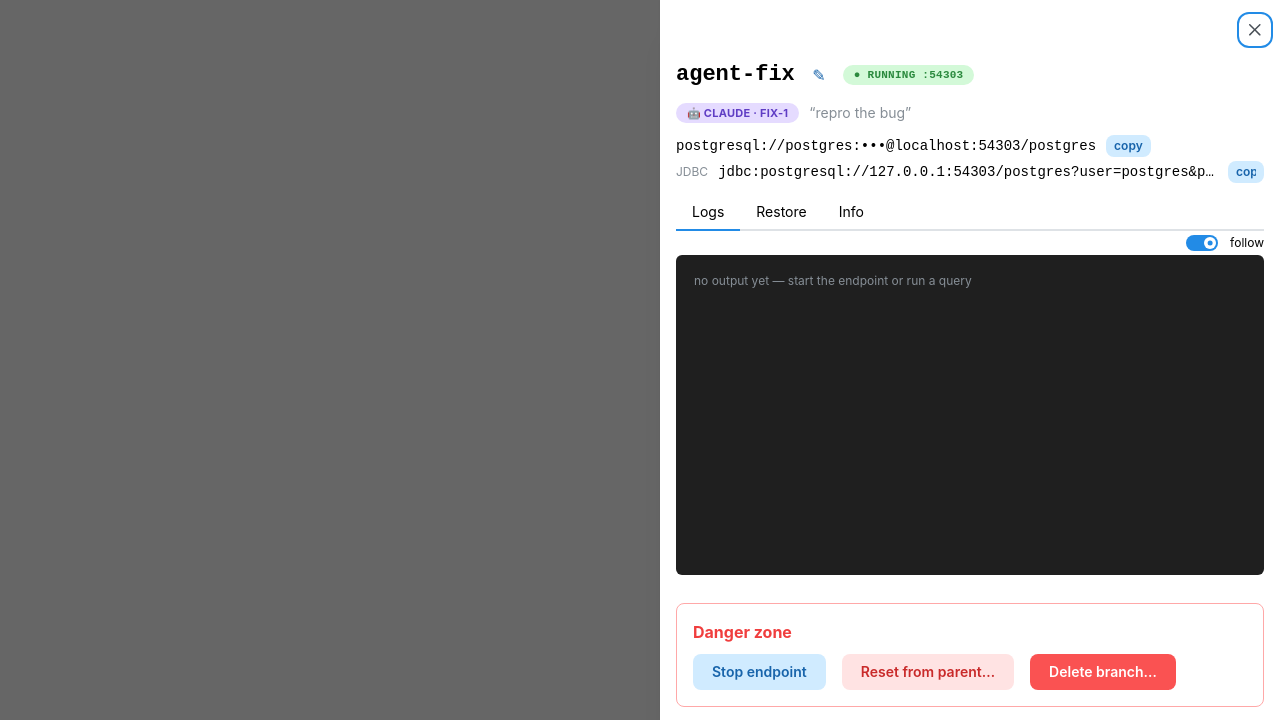
BranchDrawer › restart-to-adopt chip (Info tab) › shows the badge when the running compute's major has a newer active build
The image size is (1280, 720).
Click the tab "Info": point(851, 213) x1=823 y1=195 x2=880 y2=231
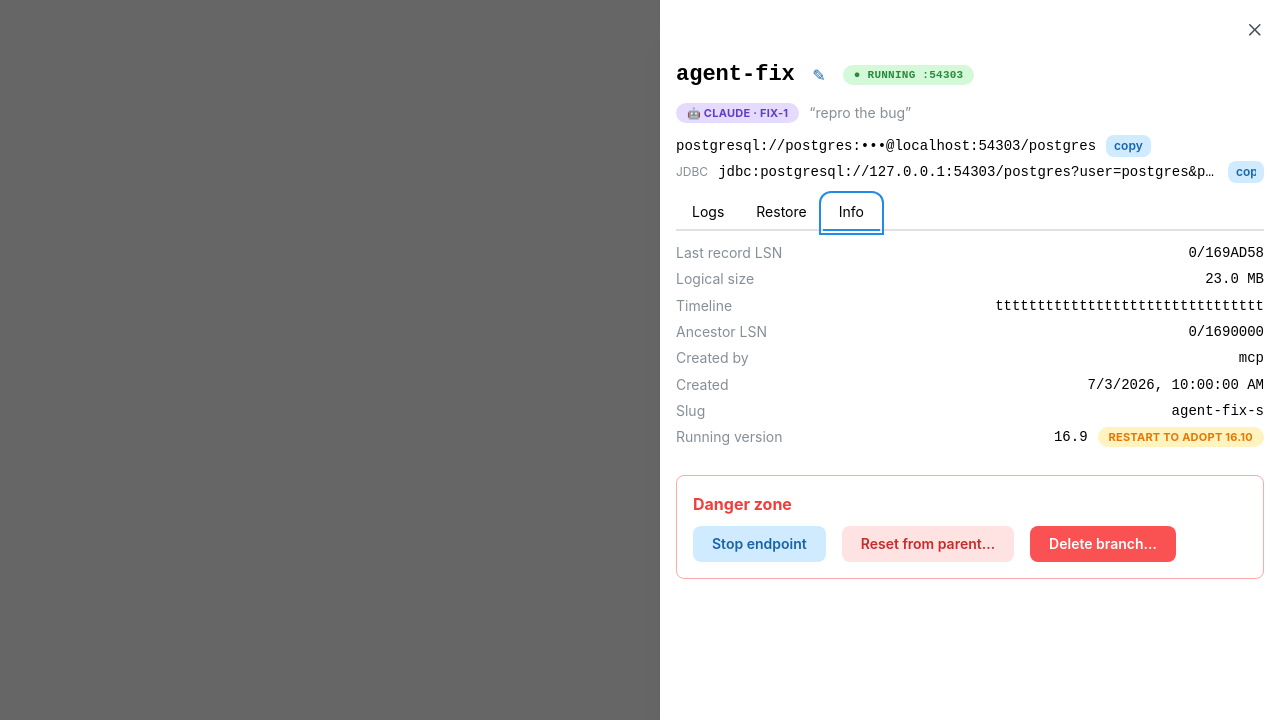
Expected: the text "restart to adopt 16.10" is shown, x1=1108 y1=428 x2=1253 y2=446
